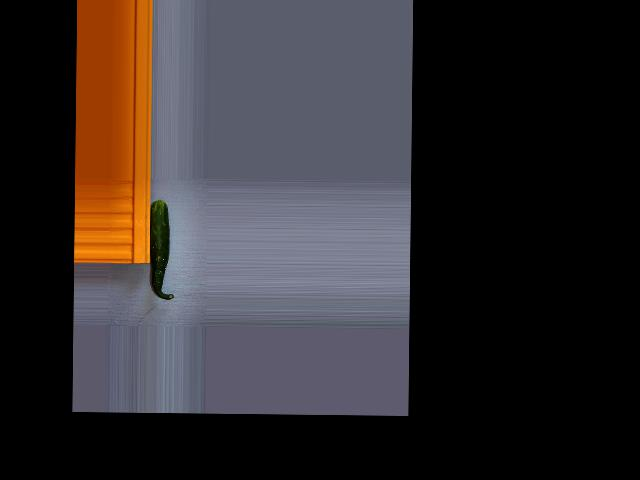cucumber: (148, 200, 175, 300)
